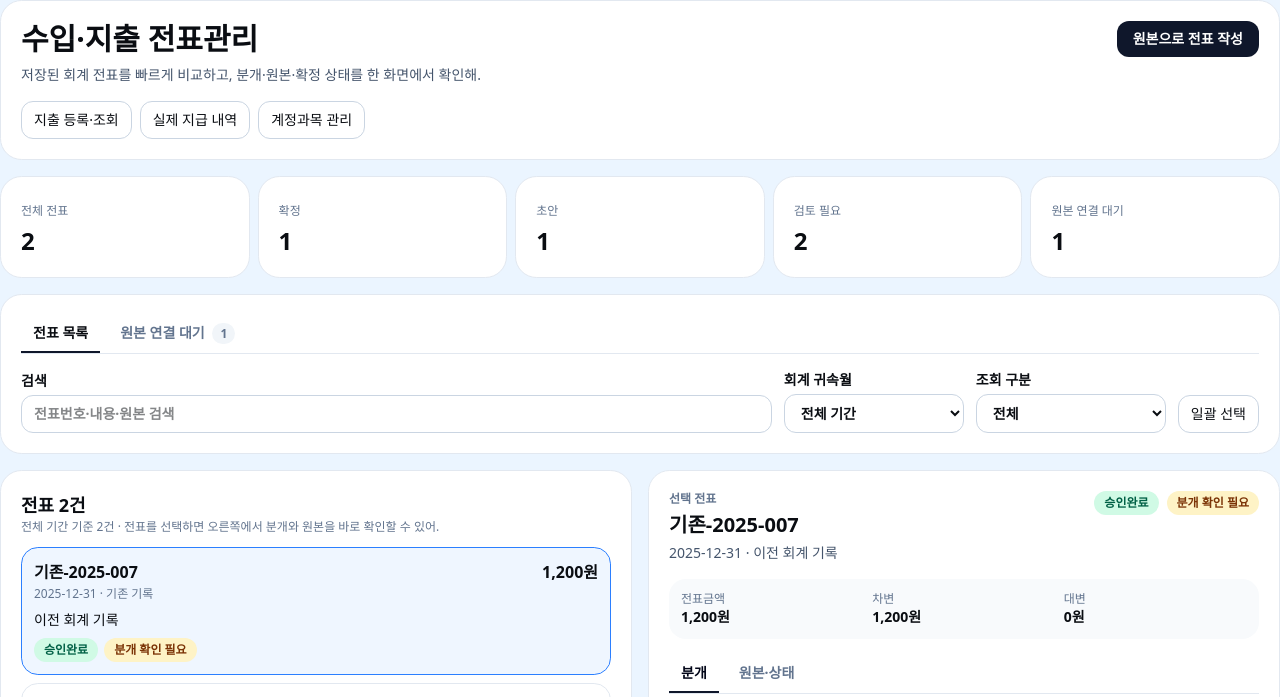
Scenario: accounting drafts and original records › filters voucher counts by accounting month and keeps the month in the URL
Select "2026년 3월" in the dropdown named "전표 회계 귀속월". click: coordinates (874, 414)
box: [784,394,964,433]
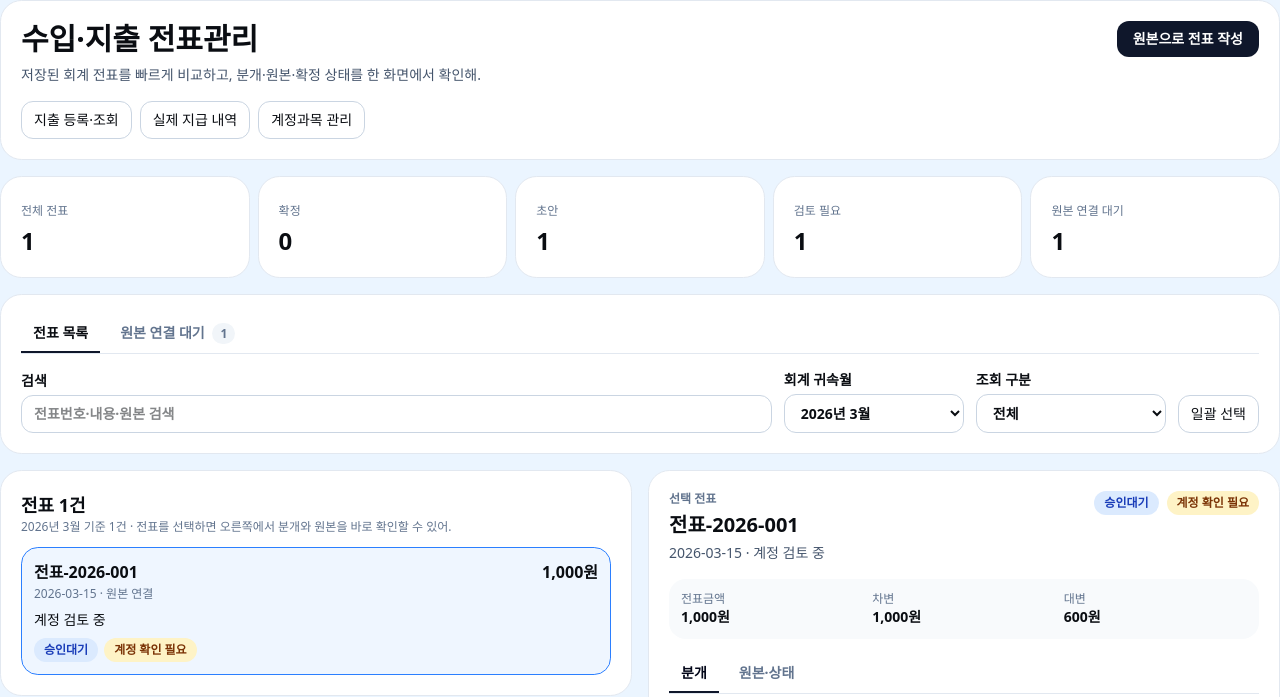
Check: the heading "전표 1건" is shown, box [21,493,86,517]
Check: the text "2026년 3월 기준 1건" is shown, box [21,519,452,535]
Check: the button "기존-2025-007 2025-12-31 · 기존 기록 1,200원 이전 회계 기록 승인완료 분개 확인 필요" is gone
